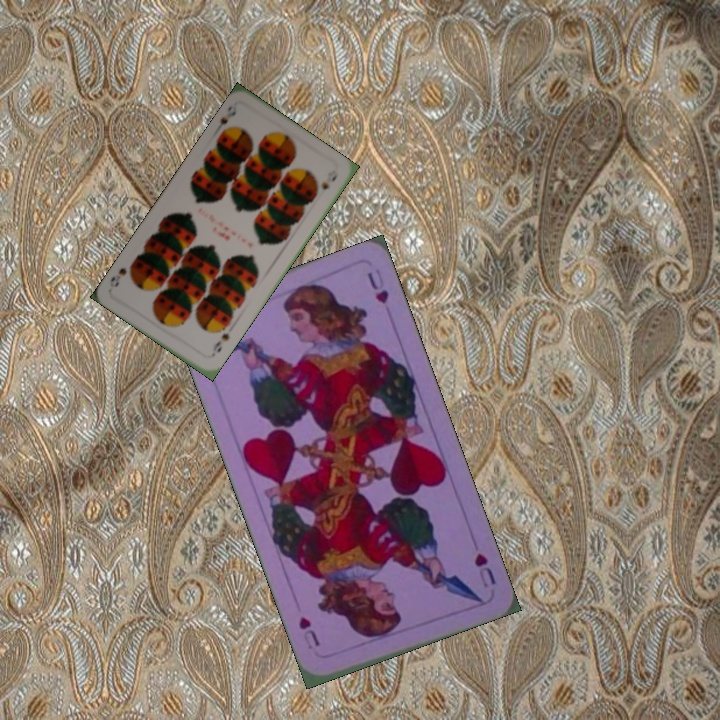HU: (470, 549, 499, 591)
S9: (211, 101, 240, 135), (207, 328, 232, 360)
